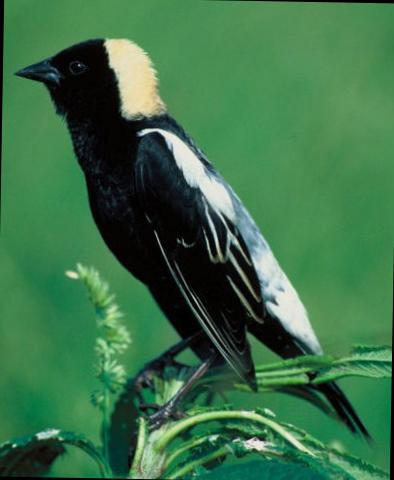bird: (0, 24, 385, 460)
